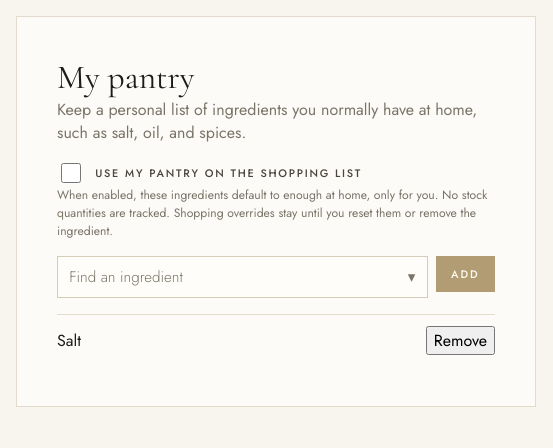
Test: PantryComponent › keeps the saved toggle and displays an error when saving fails
Click the checkbox labelled "Use my pantry on the shopping list" at (71, 173), box x1=61 y1=163 x2=81 y2=183
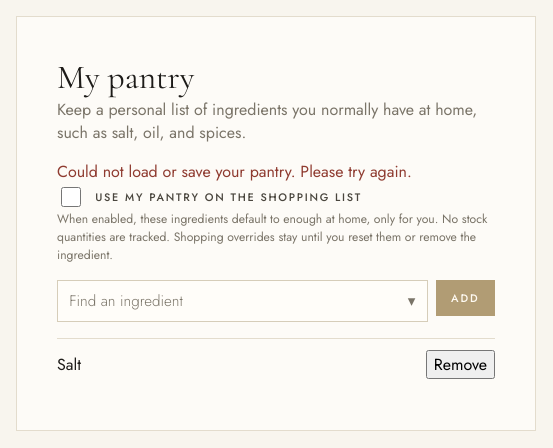
Expected: the checkbox labelled "Use my pantry on the shopping list" is not checked, x1=61 y1=187 x2=81 y2=207
Result: the message "Could not load or save your pantry. Please try again." is shown at x1=57 y1=160 x2=412 y2=183
